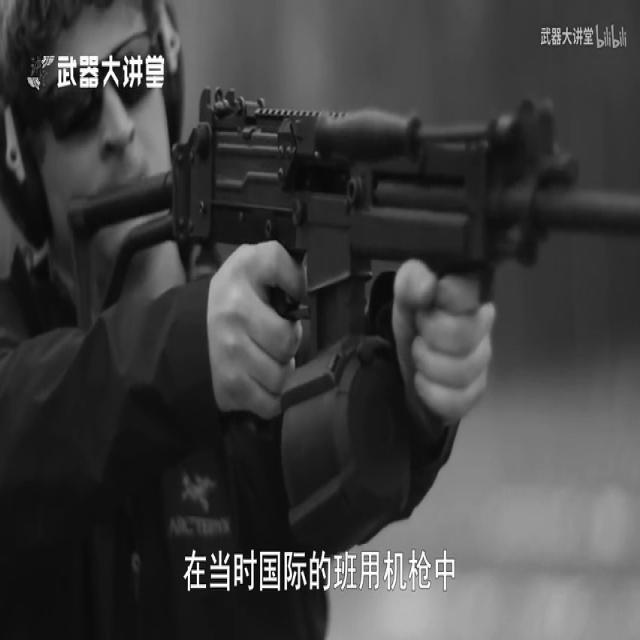Sniper: (81, 0, 640, 500)
